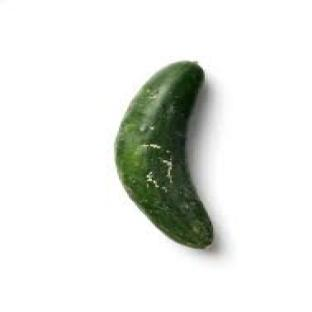Cucumber: (116, 61, 212, 247)
